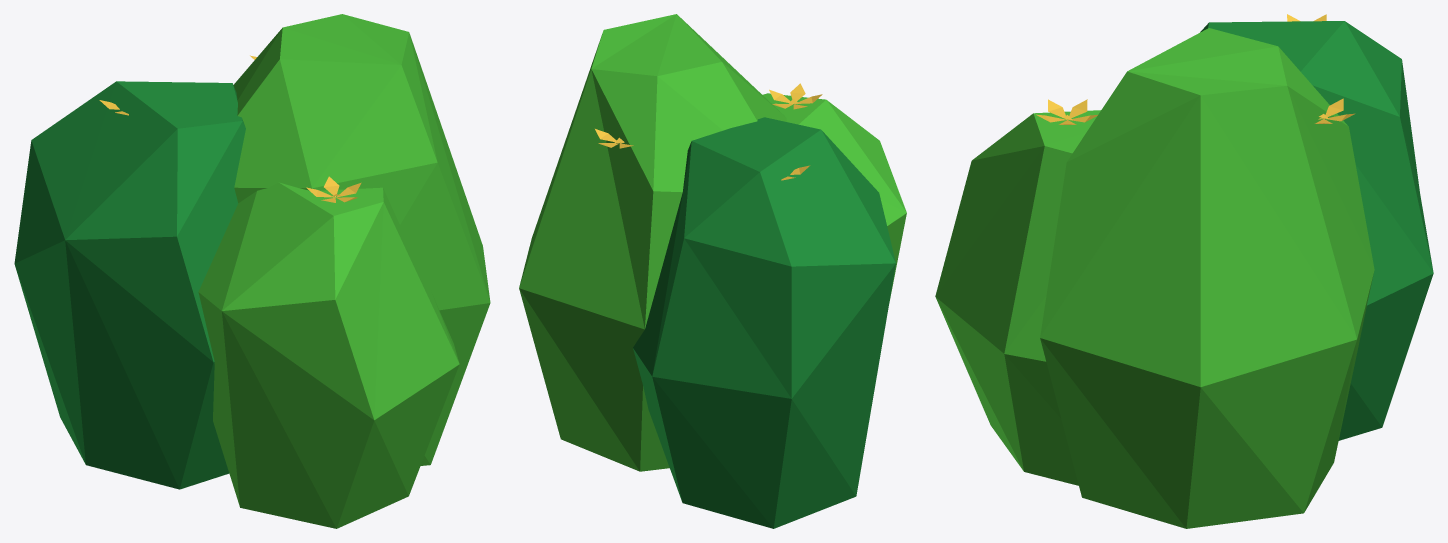
Rendered from shrub_flowering_yellow.fbx.
3 renders of one model, left to right at view 1: azimuth 30°, elevation 25°; view 2: azimuth 150°, elevation 25°; view 3: azimuth 270°, elevation 25°, orthographic. The views are drawn at different scales.
Parts seen in each view (by area): view 1: shrub_flowering_yellow; view 2: shrub_flowering_yellow; view 3: shrub_flowering_yellow.
Boxes of the visible parts, box(x1,y1,x2,y2) form: shrub_flowering_yellow: box(14, 14, 490, 528); shrub_flowering_yellow: box(519, 14, 906, 528); shrub_flowering_yellow: box(935, 14, 1433, 528).
Bounding box in the file's own units: 1.6 × 1.5 × 1.6.
